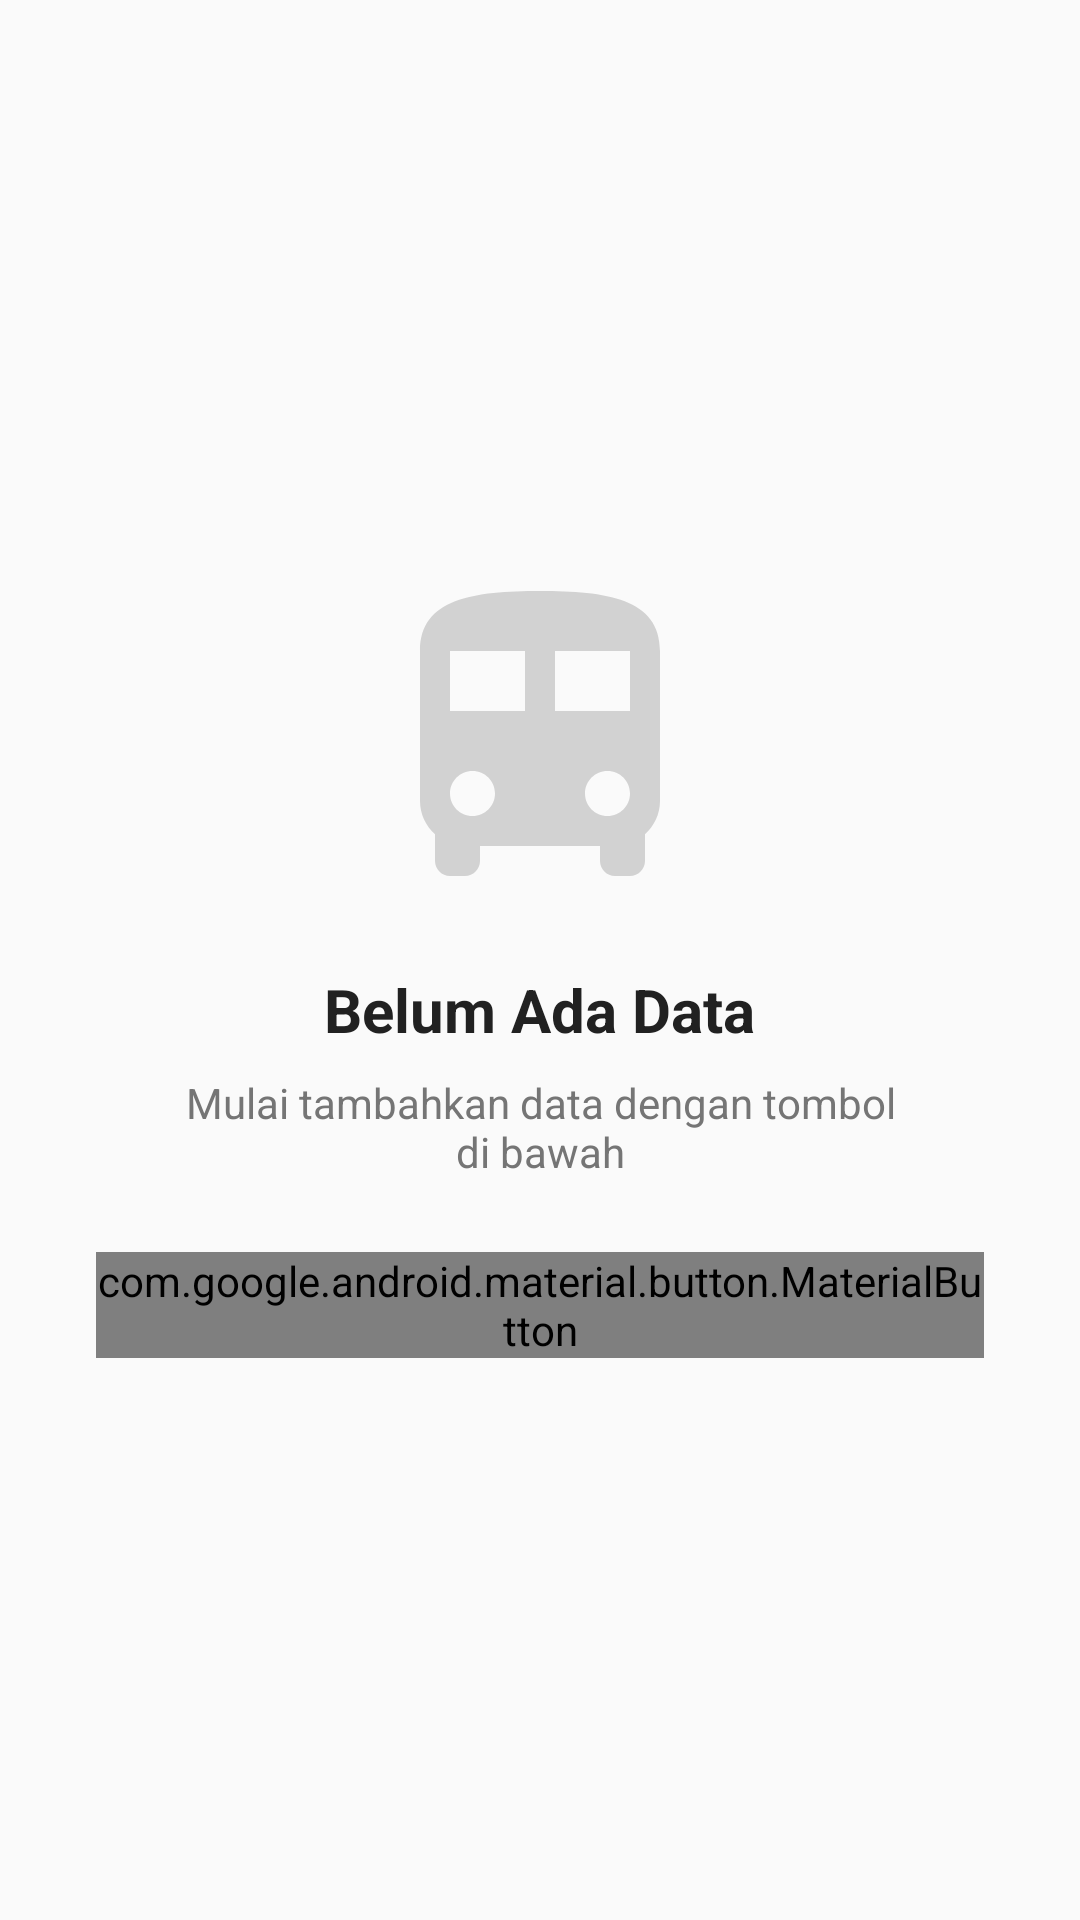

Icon click points for this 1080px x 1920px phone screenshot, format point (x, y):
bus: point (540, 733)
